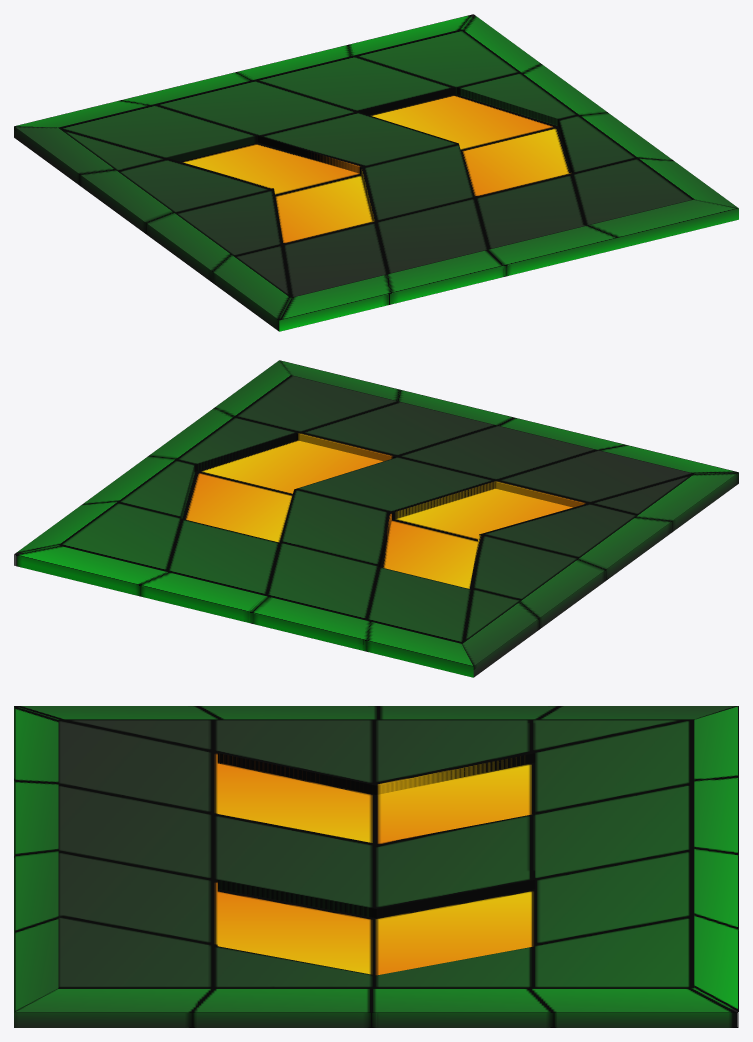
The model's file is Floorspeedboost.fbx.
3 renders of one model, top to bottom at view 1: azimuth 30°, elevation 25°; view 2: azimuth 150°, elevation 25°; view 3: azimuth 270°, elevation 25°, orthographic. The views are drawn at different scales.
Visible parts, largest first — view 1: Cube; view 2: Cube; view 3: Cube.
Boxes of the visible parts, x1,y1,x2,y2 form: Cube: [14, 14, 738, 331]; Cube: [14, 360, 738, 677]; Cube: [14, 706, 738, 1027].
Bounding box in the file's own units: 1000 × 31.42 × 1000.
